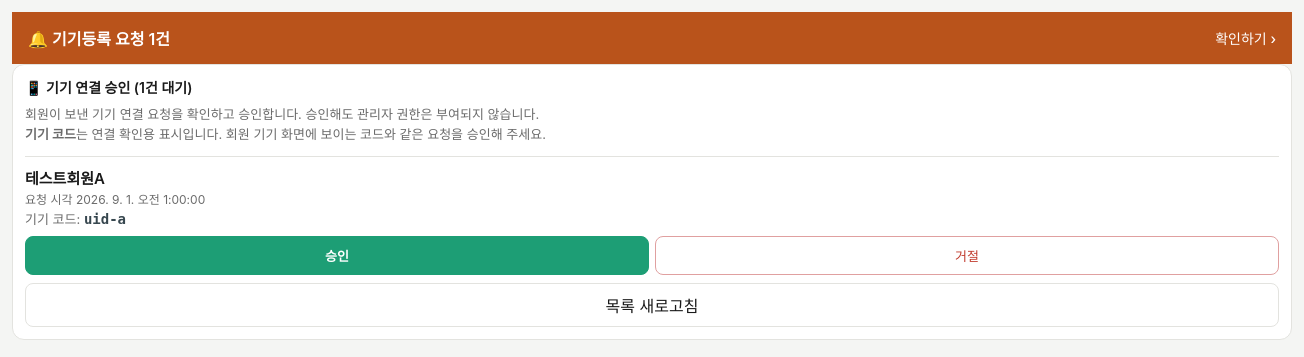
Scenario: 상단 알림 — 승인·거절 후 즉시 갱신 › G. 1건을 승인하면 상단 알림이 바로 사라진다
expect the text "🔔 기기등록 요청 1건" is shown: met, box [28, 26, 170, 50]
Click the button "승인" at (337, 256), box [25, 236, 649, 275]
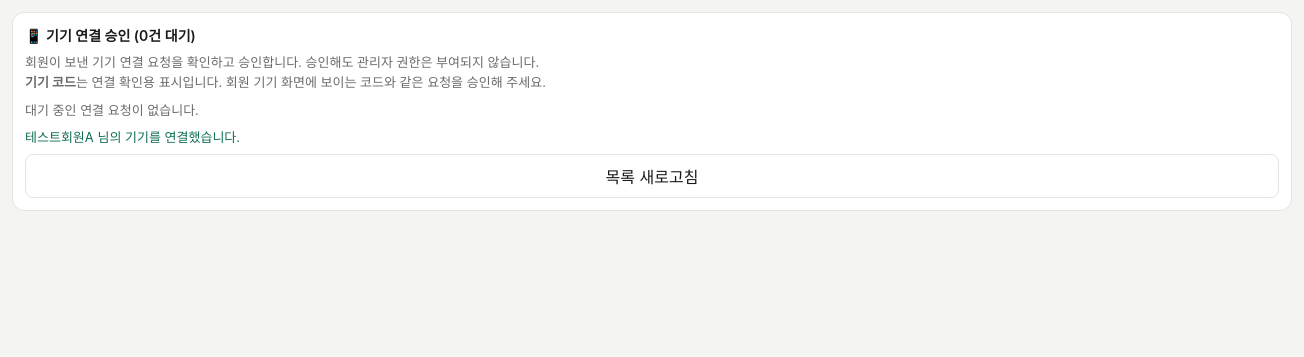
expect the button "기기등록 요청" is gone: met
